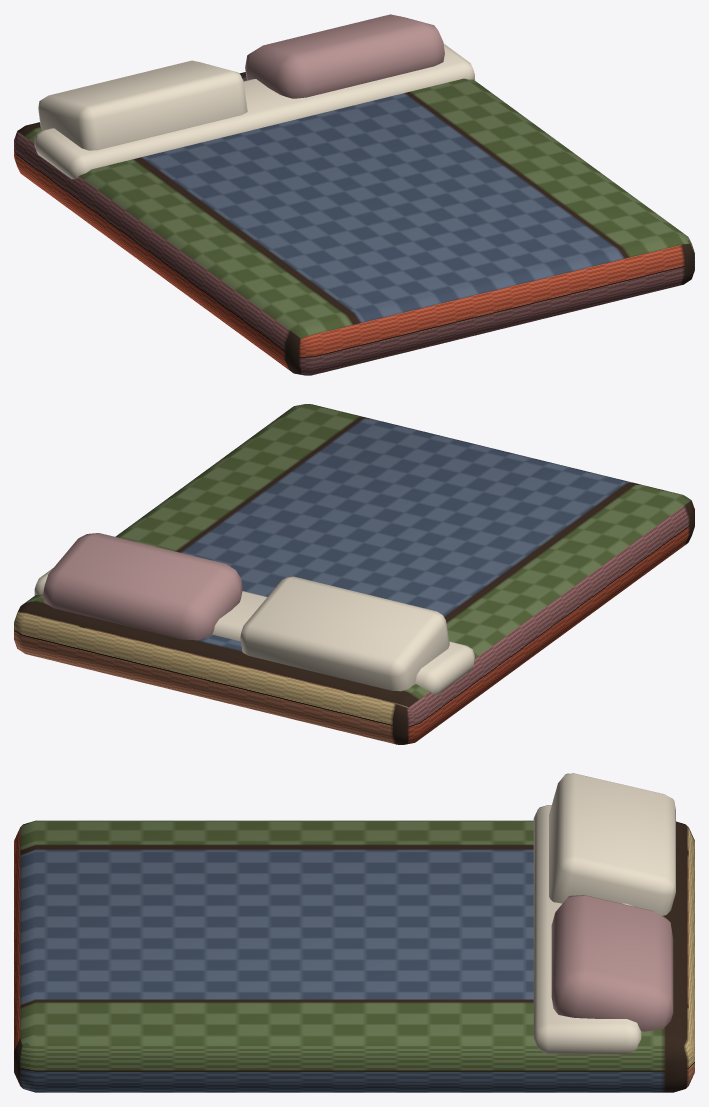
File: bed-quilt.glb
3 views of the same model, one above another, from view 1: azimuth 30°, elevation 25°; view 2: azimuth 150°, elevation 25°; view 3: azimuth 270°, elevation 25° (orthographic). The views are drawn at different scales.
Parts seen in each view (by area): view 1: quilt, merged_cream, pillow-1; view 2: quilt, merged_cream, pillow-1; view 3: quilt, merged_cream, pillow-1.
Part boxes in pixels (<box>): quilt: <box>14,72,694,375</box>; merged_cream: <box>34,44,474,179</box>; pillow-1: <box>245,14,444,98</box>; quilt: <box>14,404,694,744</box>; merged_cream: <box>34,568,474,694</box>; pillow-1: <box>43,533,242,640</box>; quilt: <box>14,820,694,1092</box>; merged_cream: <box>533,773,675,1054</box>; pillow-1: <box>551,895,673,1031</box>.
Size of the model in its own units: 1.52 by 0.3494 by 1.9.
Materials: 3 (1 with a texture image).
